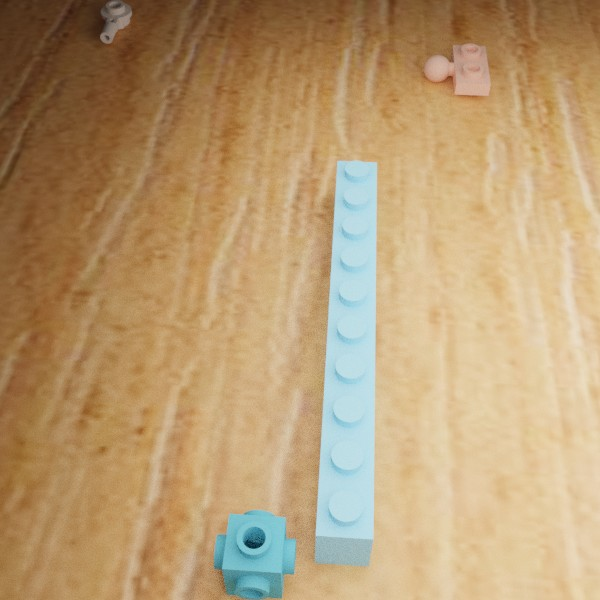lego: (314, 160, 376, 566), (213, 509, 296, 600), (423, 43, 490, 95), (100, 0, 132, 43)
